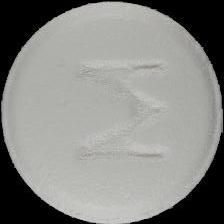76237-253: (0, 0, 224, 224)
